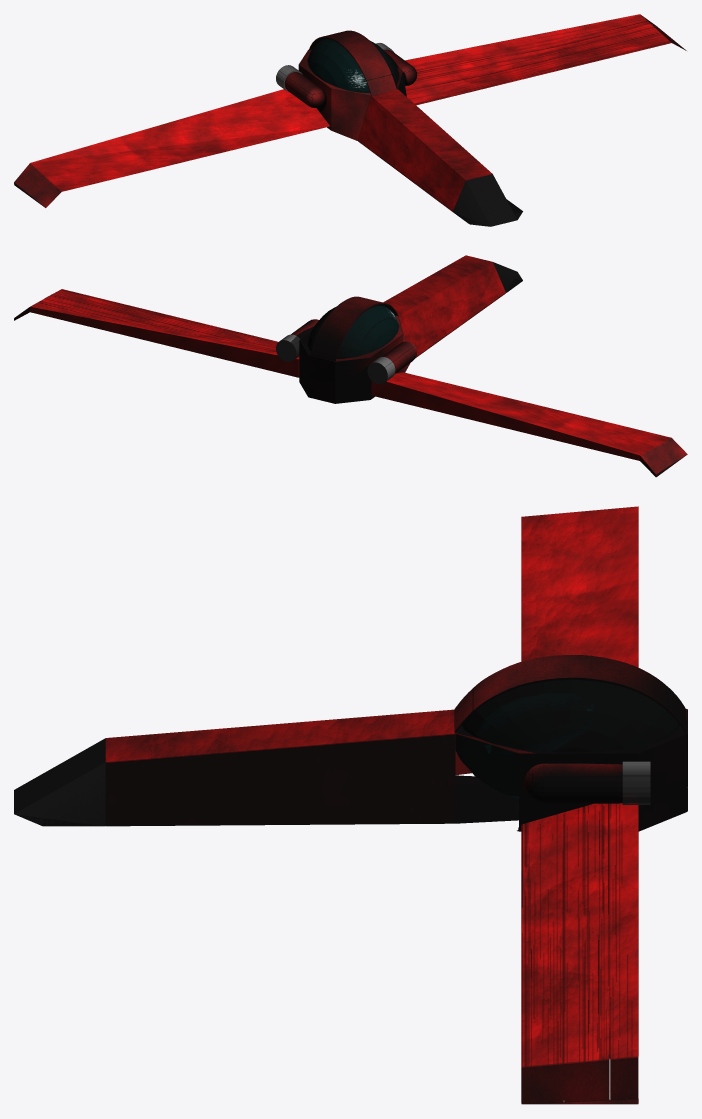
The model's file is SpaceShip_v004.fbx.
3 renders of one model, top to bottom at view 1: azimuth 30°, elevation 25°; view 2: azimuth 150°, elevation 25°; view 3: azimuth 270°, elevation 25°, orthographic. The views are drawn at different scales.
Parts seen in each view (by area): view 1: SpaceShip_v003:Layer1, SpaceShip_v003:Layer2, SpaceShip_v003:Layer3; view 2: SpaceShip_v003:Layer1, SpaceShip_v003:Layer2, SpaceShip_v003:Layer3; view 3: SpaceShip_v003:Layer1, SpaceShip_v003:Layer3, SpaceShip_v003:Layer2.
Boxes of the visible parts, x1,y1,x2,y2 form: SpaceShip_v003:Layer1: (276, 30, 522, 226); SpaceShip_v003:Layer2: (14, 89, 329, 207); SpaceShip_v003:Layer3: (405, 14, 686, 105); SpaceShip_v003:Layer1: (276, 255, 522, 403); SpaceShip_v003:Layer2: (371, 372, 687, 477); SpaceShip_v003:Layer3: (14, 289, 299, 377); SpaceShip_v003:Layer1: (14, 655, 687, 831); SpaceShip_v003:Layer3: (521, 803, 638, 1104); SpaceShip_v003:Layer2: (521, 506, 638, 667).
Bounding box in the file's own units: 2390 × 285 × 1176.
3 materials, 3 textured.
